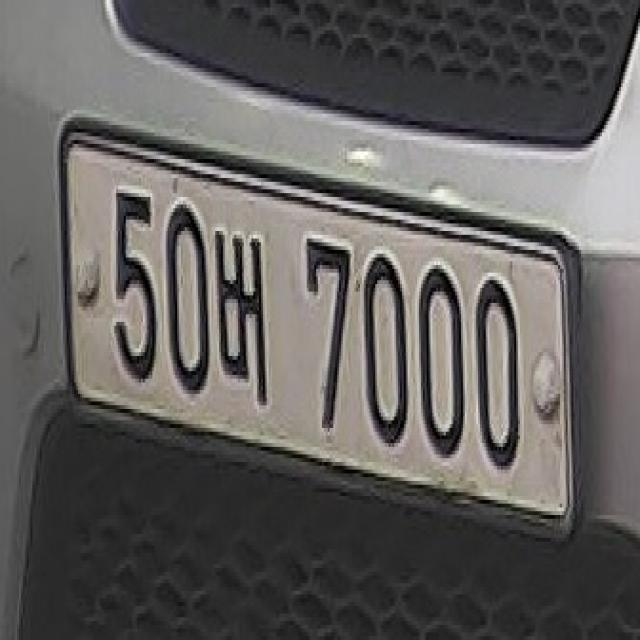0: (414, 252, 466, 463), (360, 250, 410, 460), (473, 272, 523, 482), (162, 200, 212, 408)
5: (108, 188, 158, 393)
7: (303, 232, 352, 441)
beo: (212, 220, 273, 424)
license_plate: (50, 97, 585, 559)
